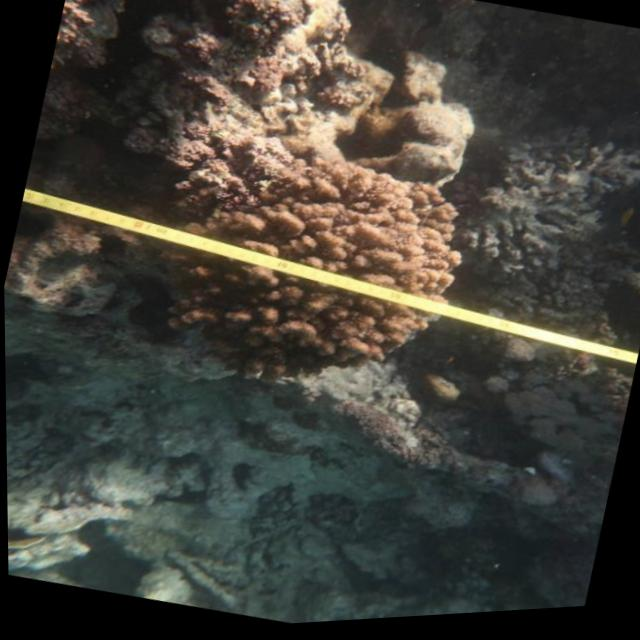Healthy Coral: (153, 99, 480, 416)
